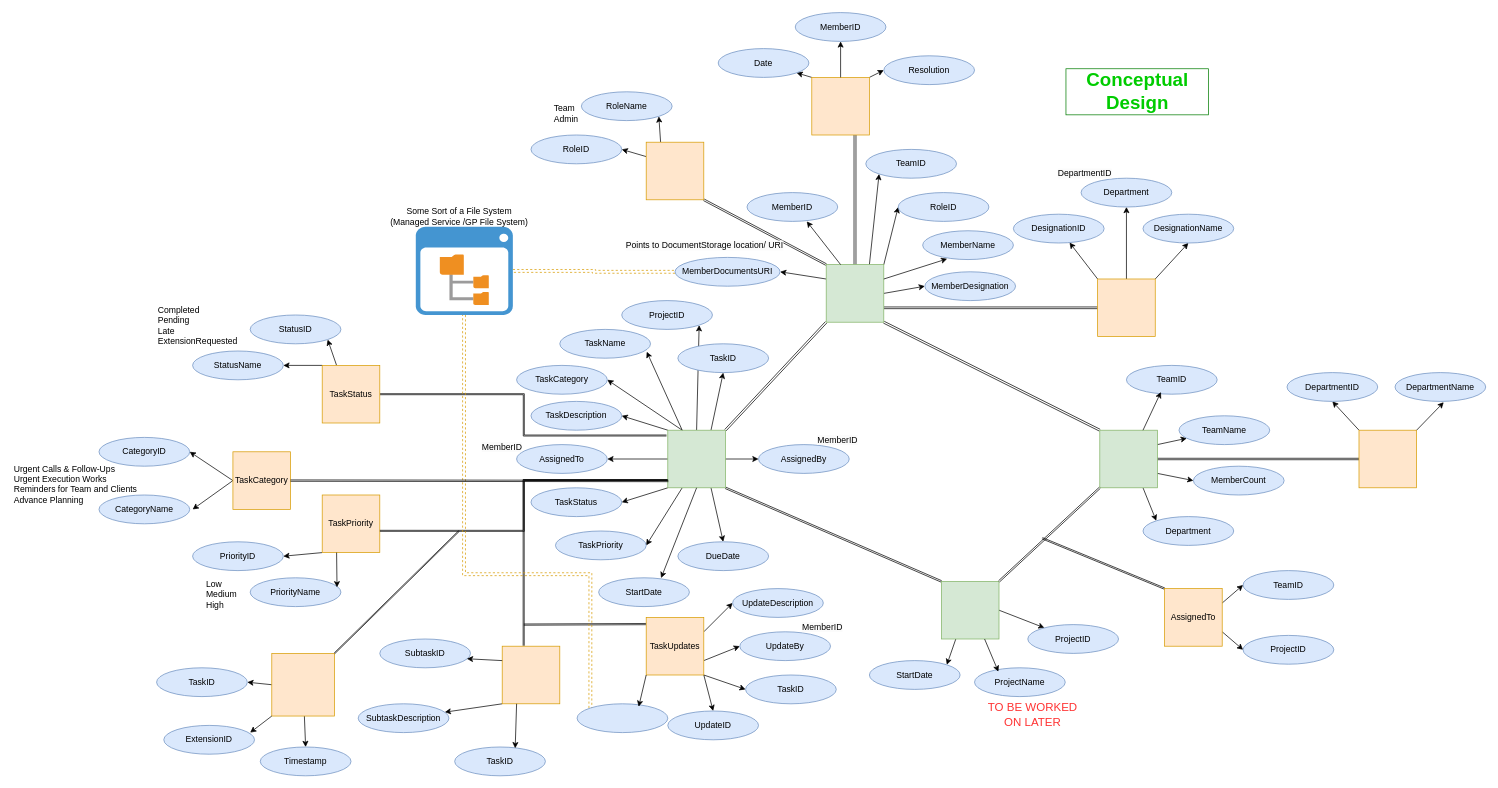
This 1498x788 diagram has some shape labels left out. The centre of each missing label's shape, as x and y in pixels:
"Departments" goes at point (1387, 458).
"Designations" goes at point (1126, 307).
"DocumentURI" goes at point (622, 718).
"Extensions" goes at point (302, 684).
"members" goes at point (854, 293).
"Project" goes at point (970, 610).
"Roles" goes at point (674, 170).
"Self-improvement Resolution" goes at point (840, 106).
"Subtasks" goes at point (530, 674).
"Tasks" goes at point (696, 458).
"Teams" goes at point (1128, 458).
